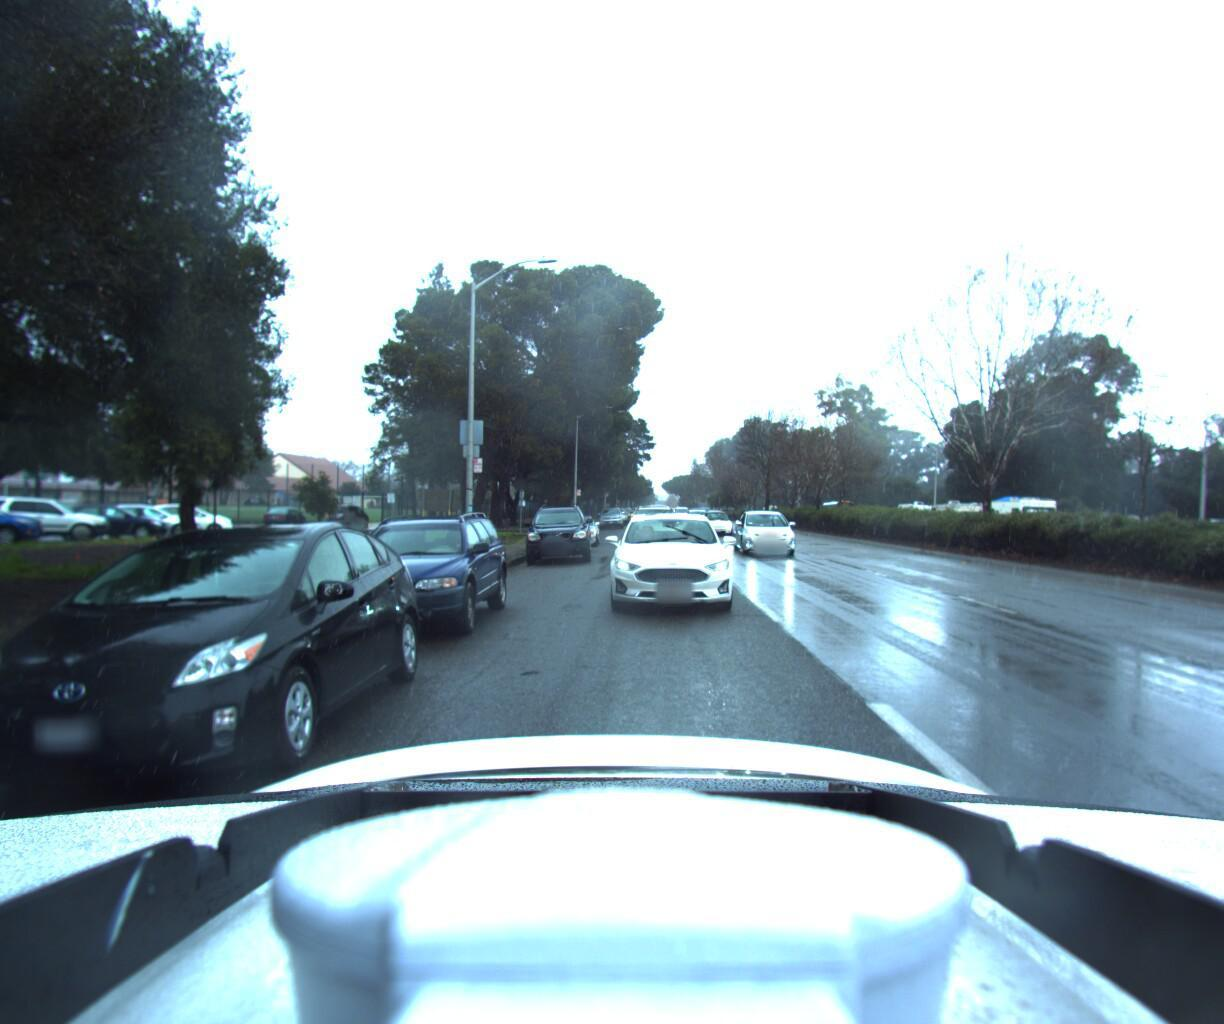car: (292, 508, 509, 647), (606, 503, 740, 618), (519, 497, 591, 565), (732, 508, 806, 557), (622, 504, 682, 557), (548, 510, 598, 545), (696, 508, 736, 537), (594, 503, 620, 527), (681, 505, 710, 527)
other_vehicle: (965, 490, 1058, 543), (921, 495, 985, 535), (891, 497, 936, 531)
